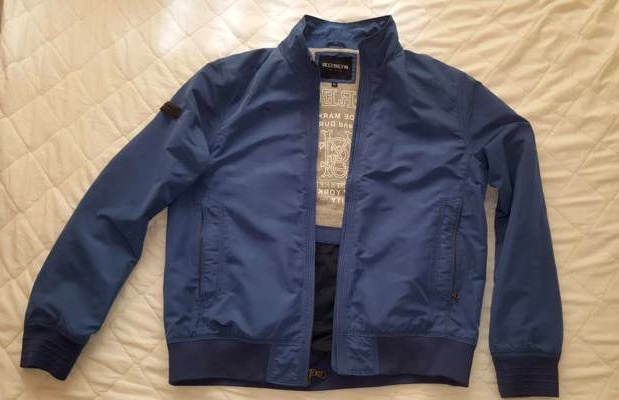Blazer: (16, 22, 582, 384)
